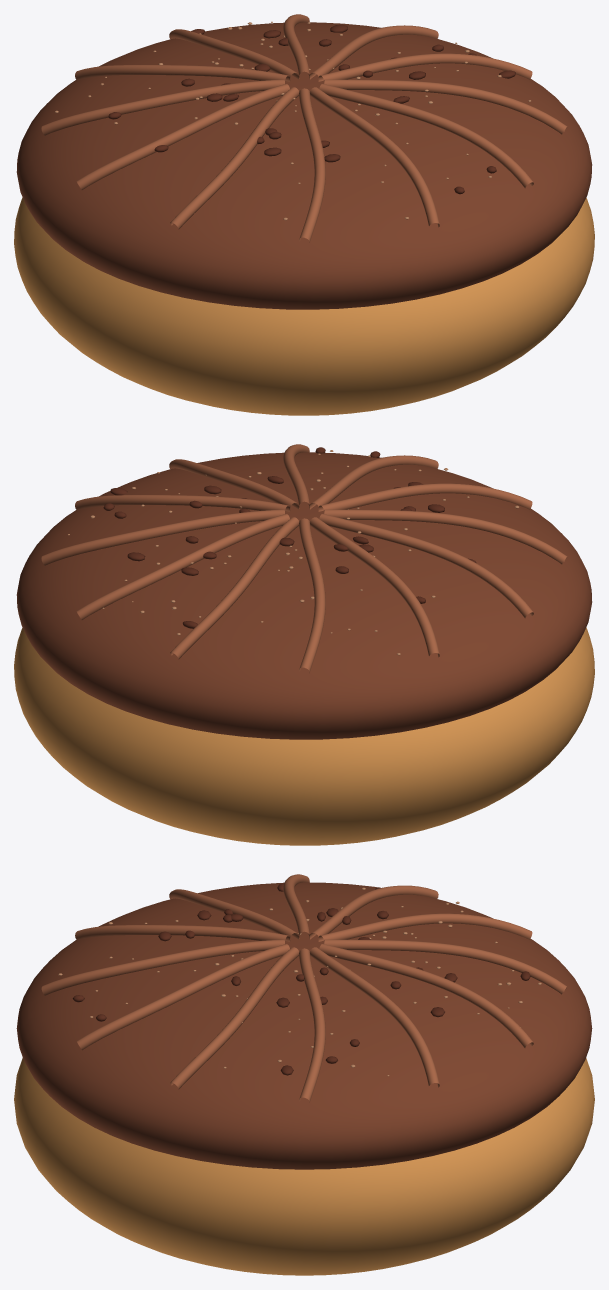
File: ConchaChocolate.glb
The picture shows the model from 3 angles, top to bottom: view 1: azimuth 30°, elevation 25°; view 2: azimuth 150°, elevation 25°; view 3: azimuth 270°, elevation 25°; orthographic projection.
Visible parts, largest first — view 1: Cubierta_Chocolate, Masa_Concha_Chocolate, Relieve_Chocolate.011, Relieve_Chocolate.010, Relieve_Chocolate.005, Relieve_Chocolate.006, Relieve_Chocolate.004, Relieve_Chocolate, Relieve_Chocolate.009, Relieve_Chocolate.007, Relieve_Chocolate.008, Relieve_Chocolate.001 (+2 smaller); view 2: Cubierta_Chocolate, Masa_Concha_Chocolate, Relieve_Chocolate.001, Relieve_Chocolate.007, Relieve_Chocolate.006, Relieve_Chocolate.002, Relieve_Chocolate.008, Relieve_Chocolate.005, Relieve_Chocolate, Relieve_Chocolate.003, Relieve_Chocolate.004, Relieve_Chocolate.009 (+2 smaller); view 3: Cubierta_Chocolate, Masa_Concha_Chocolate, Relieve_Chocolate.009, Relieve_Chocolate.002, Relieve_Chocolate.003, Relieve_Chocolate.010, Relieve_Chocolate.004, Relieve_Chocolate.001, Relieve_Chocolate.008, Relieve_Chocolate.011, Relieve_Chocolate, Relieve_Chocolate.005 (+2 smaller).
Part boxes in pixels (box(x1,y1,x2,y2)): Cubierta_Chocolate: box(16, 22, 592, 309); Masa_Concha_Chocolate: box(14, 197, 594, 415); Relieve_Chocolate.011: box(323, 79, 567, 134); Relieve_Chocolate.010: box(319, 84, 533, 188); Relieve_Chocolate.005: box(41, 79, 284, 135); Relieve_Chocolate.006: box(76, 84, 289, 189); Relieve_Chocolate.004: box(75, 65, 289, 81); Relieve_Chocolate: box(318, 53, 532, 81); Relieve_Chocolate.009: box(310, 87, 439, 227); Relieve_Chocolate.007: box(170, 87, 299, 229); Relieve_Chocolate.008: box(299, 88, 325, 242); Relieve_Chocolate.001: box(309, 25, 438, 79); Cubierta_Chocolate: box(16, 452, 592, 739); Masa_Concha_Chocolate: box(14, 627, 594, 845); Relieve_Chocolate.001: box(41, 509, 284, 565); Relieve_Chocolate.007: box(323, 509, 567, 564); Relieve_Chocolate.006: box(319, 514, 533, 618); Relieve_Chocolate.002: box(76, 514, 289, 619); Relieve_Chocolate.008: box(318, 483, 532, 511); Relieve_Chocolate.005: box(310, 517, 439, 657); Relieve_Chocolate: box(75, 495, 289, 511); Relieve_Chocolate.003: box(170, 517, 299, 659); Relieve_Chocolate.004: box(299, 518, 325, 672); Relieve_Chocolate.009: box(309, 455, 438, 509); Cubierta_Chocolate: box(16, 882, 592, 1169); Masa_Concha_Chocolate: box(14, 1058, 594, 1275); Relieve_Chocolate.009: box(41, 939, 284, 995); Relieve_Chocolate.002: box(319, 944, 533, 1047); Relieve_Chocolate.003: box(323, 939, 567, 994); Relieve_Chocolate.010: box(76, 944, 289, 1050); Relieve_Chocolate.004: box(318, 913, 532, 941); Relieve_Chocolate.001: box(310, 947, 439, 1087); Relieve_Chocolate.008: box(75, 925, 289, 941); Relieve_Chocolate.011: box(170, 947, 299, 1089); Relieve_Chocolate: box(299, 948, 325, 1101); Relieve_Chocolate.005: box(309, 885, 438, 939).
Size of the model in its own units: 1.04 by 0.5646 by 1.04.
